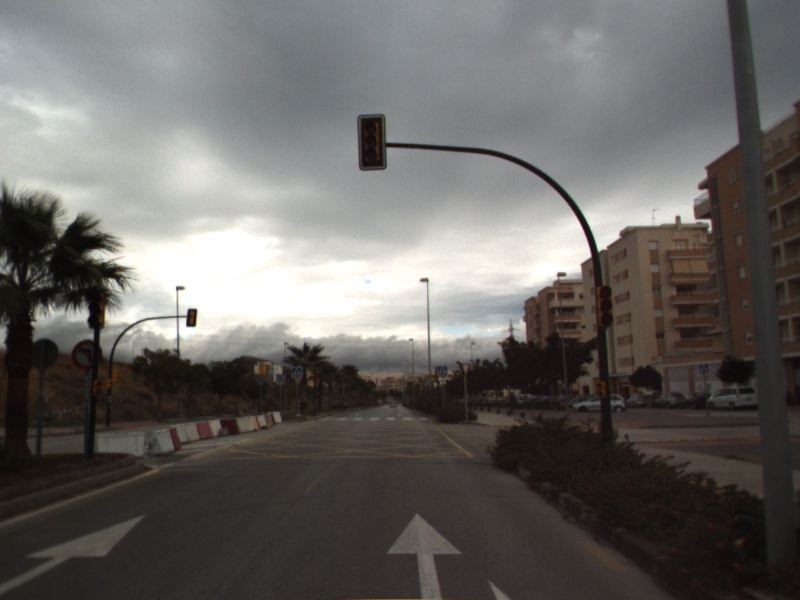STRAIGHT: (1, 512, 148, 597), (385, 510, 465, 600)
